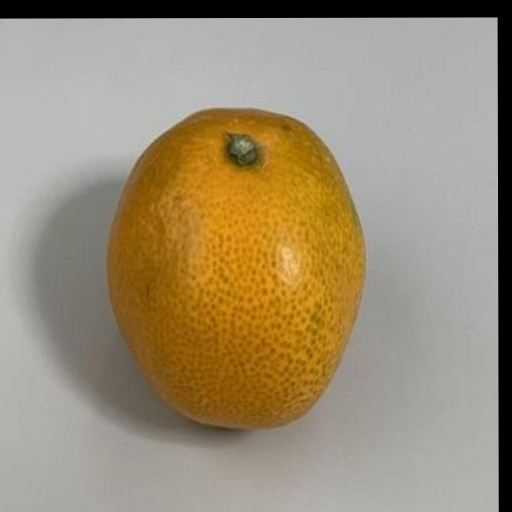fruit: (109, 109, 364, 428)
